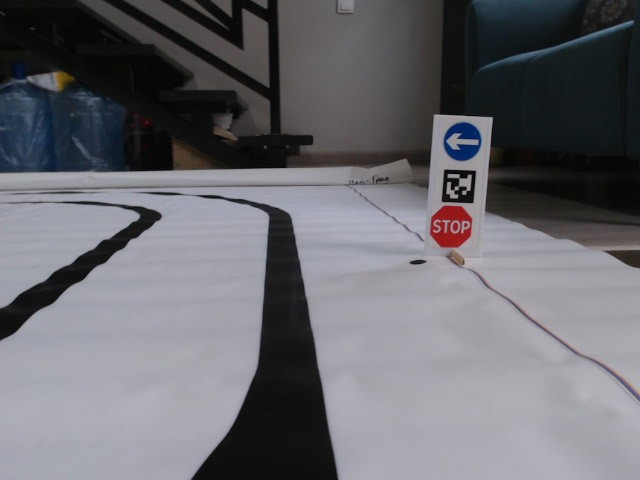Stop: (430, 203, 476, 252)
